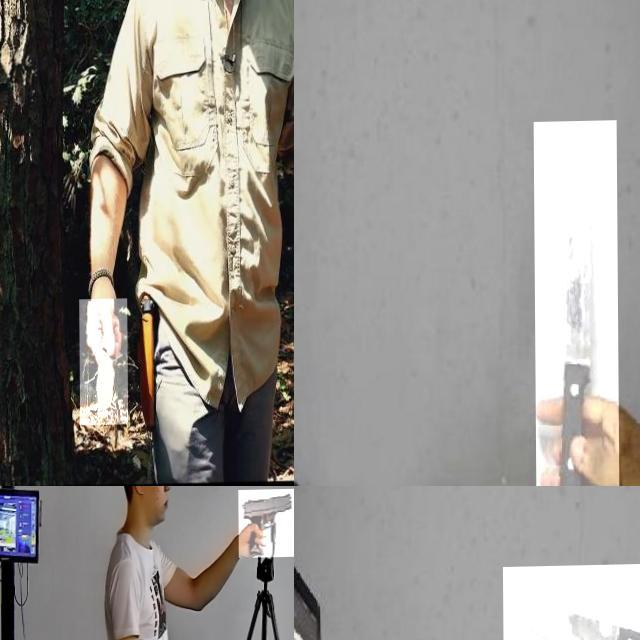-: (533, 122, 618, 486), (502, 564, 640, 640), (78, 300, 128, 426)
gun-knife-thesis - v11 Yolov5 augmented: (237, 490, 294, 559)
